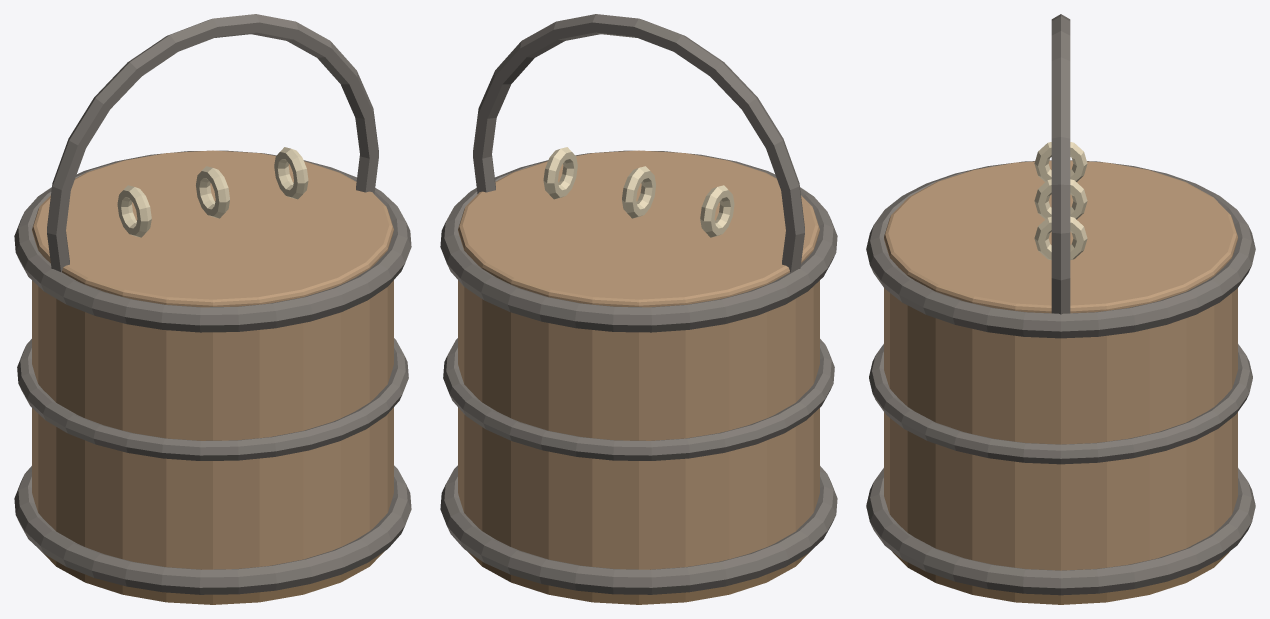
File: well_bucket.glb
3 renders of one model, left to right at view 1: azimuth 30°, elevation 25°; view 2: azimuth 150°, elevation 25°; view 3: azimuth 270°, elevation 25°, orthographic. The views are drawn at different scales.
Visible parts, largest first — view 1: well_bucket; view 2: well_bucket; view 3: well_bucket.
Boxes of the visible parts, x1,y1,x2,y2 form: well_bucket: (14, 14, 411, 604); well_bucket: (440, 14, 837, 604); well_bucket: (866, 14, 1255, 604).
Size of the model in its own units: 0.44 by 0.622 by 0.44.
